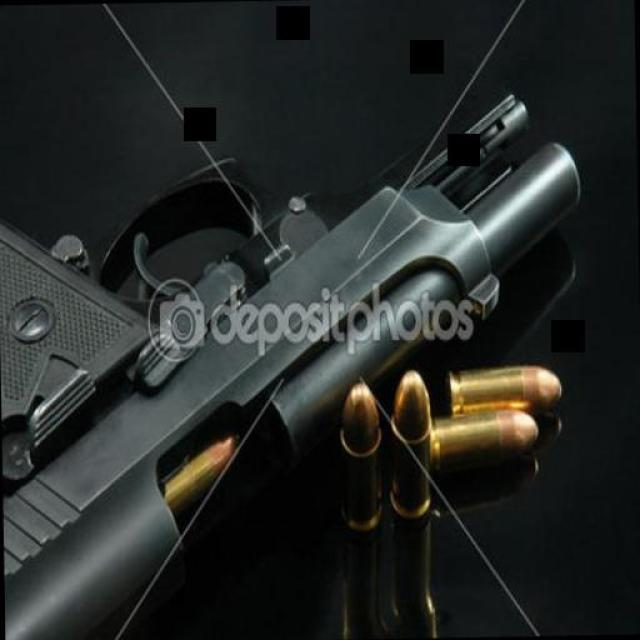gun: (0, 81, 615, 640)
